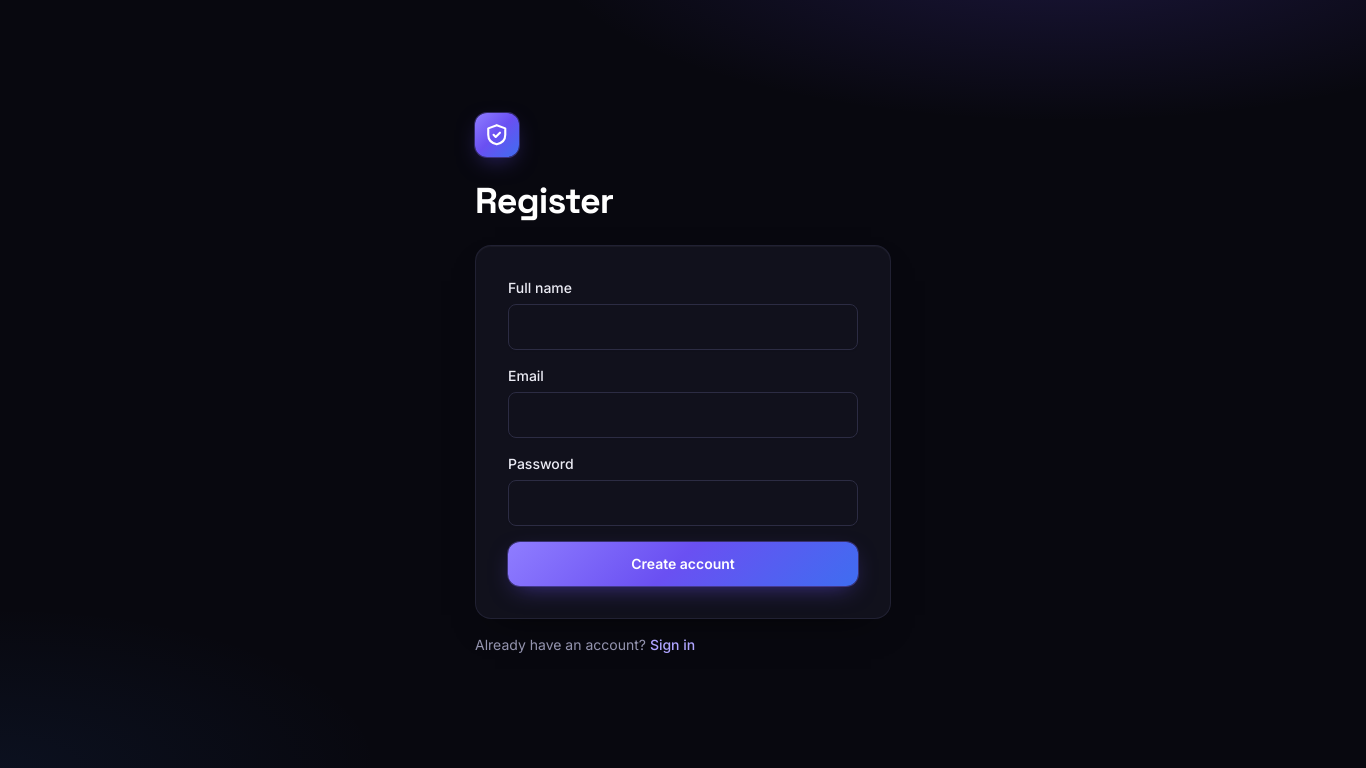
Test: Register page › shows a success message after registering (dev, public)
In the field labelled "Full name": point(683, 327) [508, 304, 858, 350], type "New User"
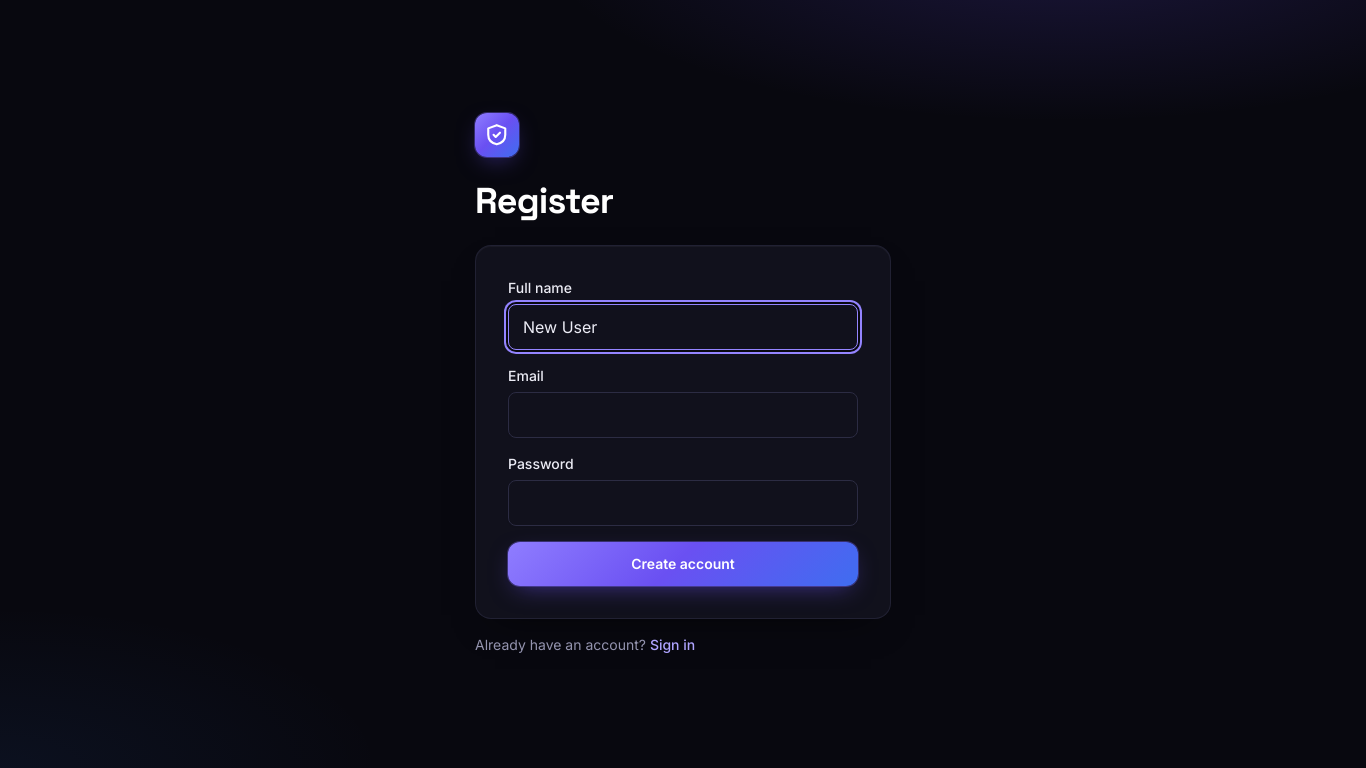
In the field labelled "Email": point(683, 415) [508, 392, 858, 438], type "new@example.com"
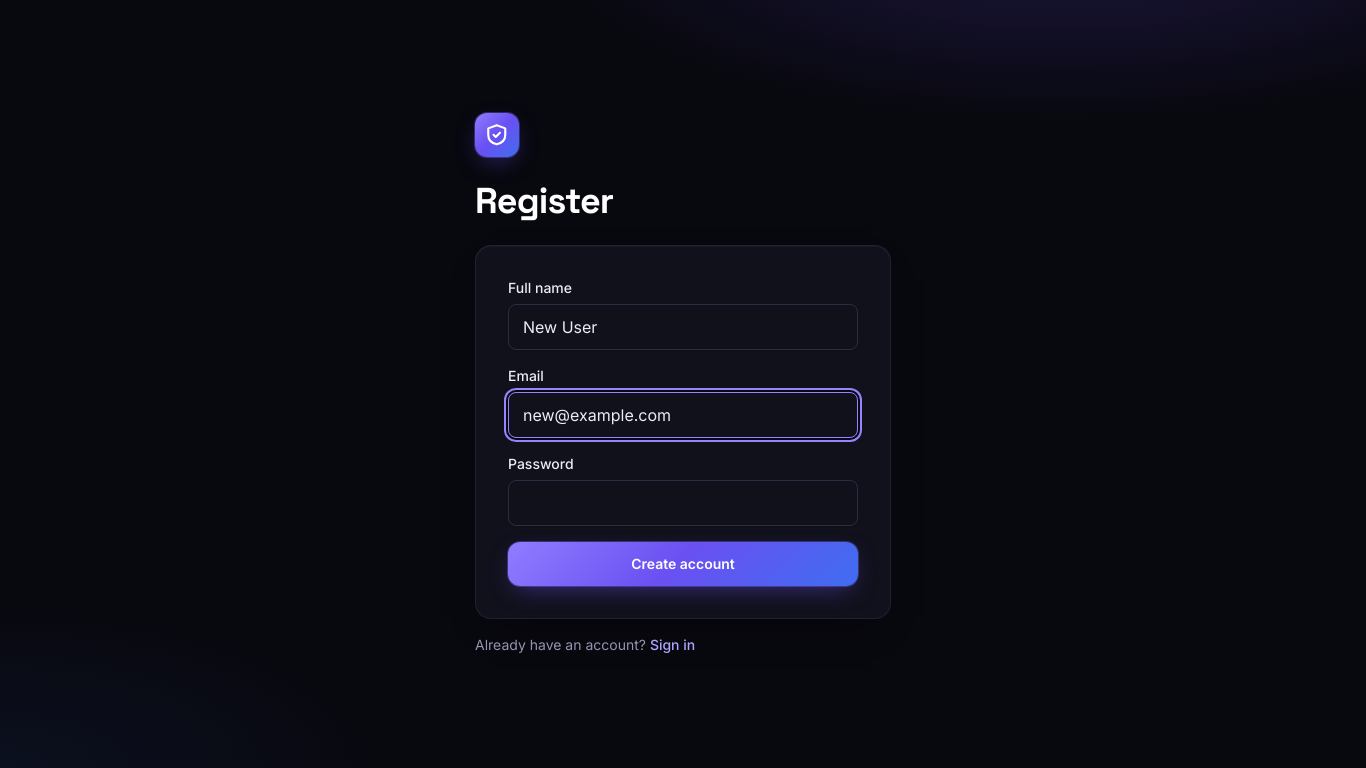
In the password field labelled "Password": point(683, 503) [508, 480, 858, 526], type "a-strong-password"
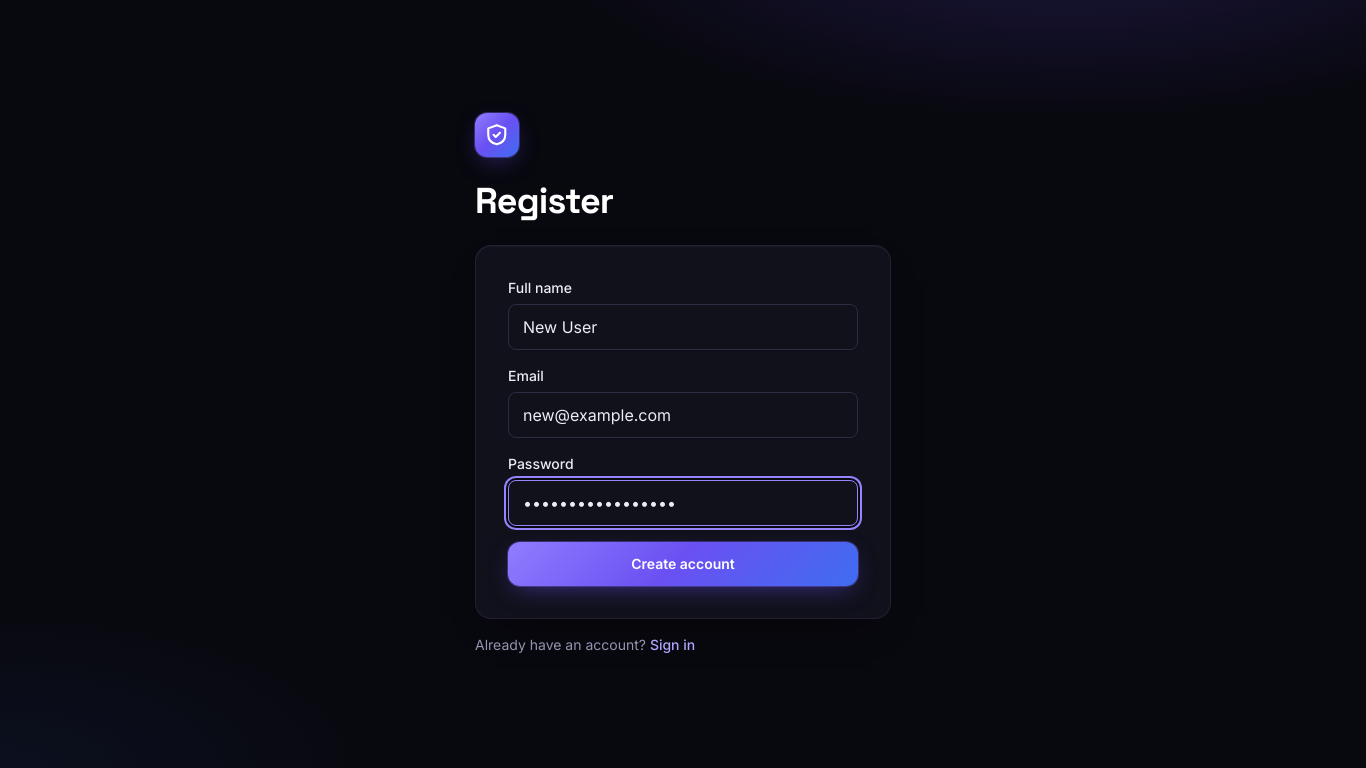
Click the button "Create account": point(683, 564) [508, 542, 858, 586]
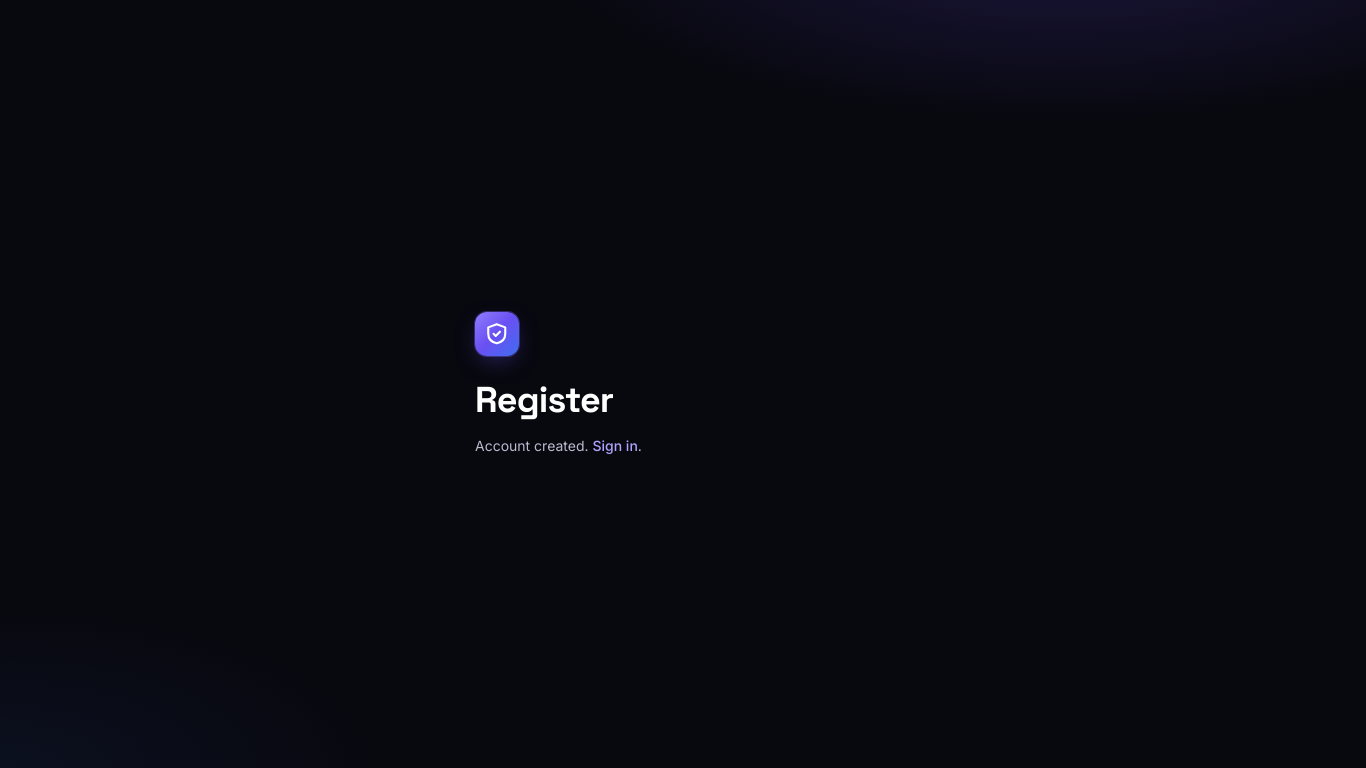
Now the text "Account created. Sign in ." is shown, box [475, 437, 642, 454]
